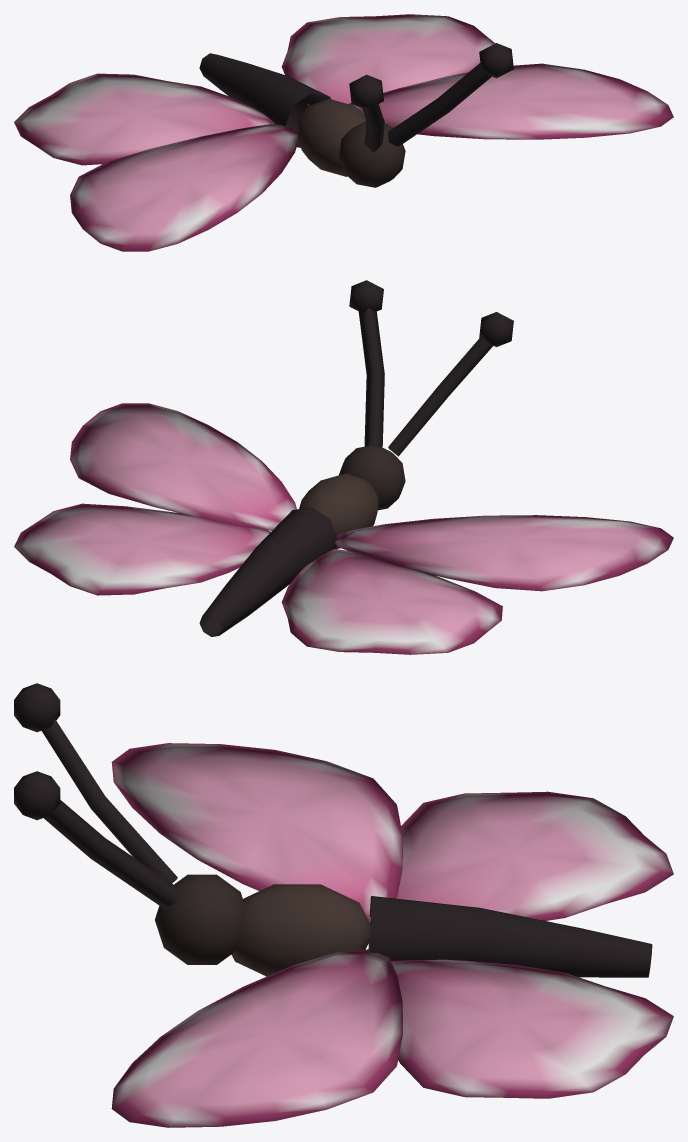
Rendered from critter_butterfly1.glb.
The picture shows the model from 3 angles, top to bottom: view 1: azimuth 30°, elevation 25°; view 2: azimuth 150°, elevation 25°; view 3: azimuth 270°, elevation 25°; orthographic projection. The views are drawn at different scales.
Visible parts, largest first — view 1: butterfly1_wing_l, butterfly1_wing_r, butterfly1_body; view 2: butterfly1_wing_l, butterfly1_wing_r, butterfly1_body; view 3: butterfly1_wing_r, butterfly1_wing_l, butterfly1_body.
Boxes of the visible parts, bbox=[...] form: butterfly1_wing_l: bbox=[14, 73, 298, 251]; butterfly1_wing_r: bbox=[281, 14, 673, 139]; butterfly1_body: bbox=[199, 43, 513, 187]; butterfly1_wing_l: bbox=[281, 515, 673, 654]; butterfly1_wing_r: bbox=[14, 403, 296, 595]; butterfly1_body: bbox=[199, 280, 513, 636]; butterfly1_wing_r: bbox=[111, 949, 673, 1127]; butterfly1_wing_l: bbox=[111, 743, 673, 921]; butterfly1_body: bbox=[14, 683, 652, 977].
Size of the model in its own units: 0.2012 by 0.061 by 0.1459.
